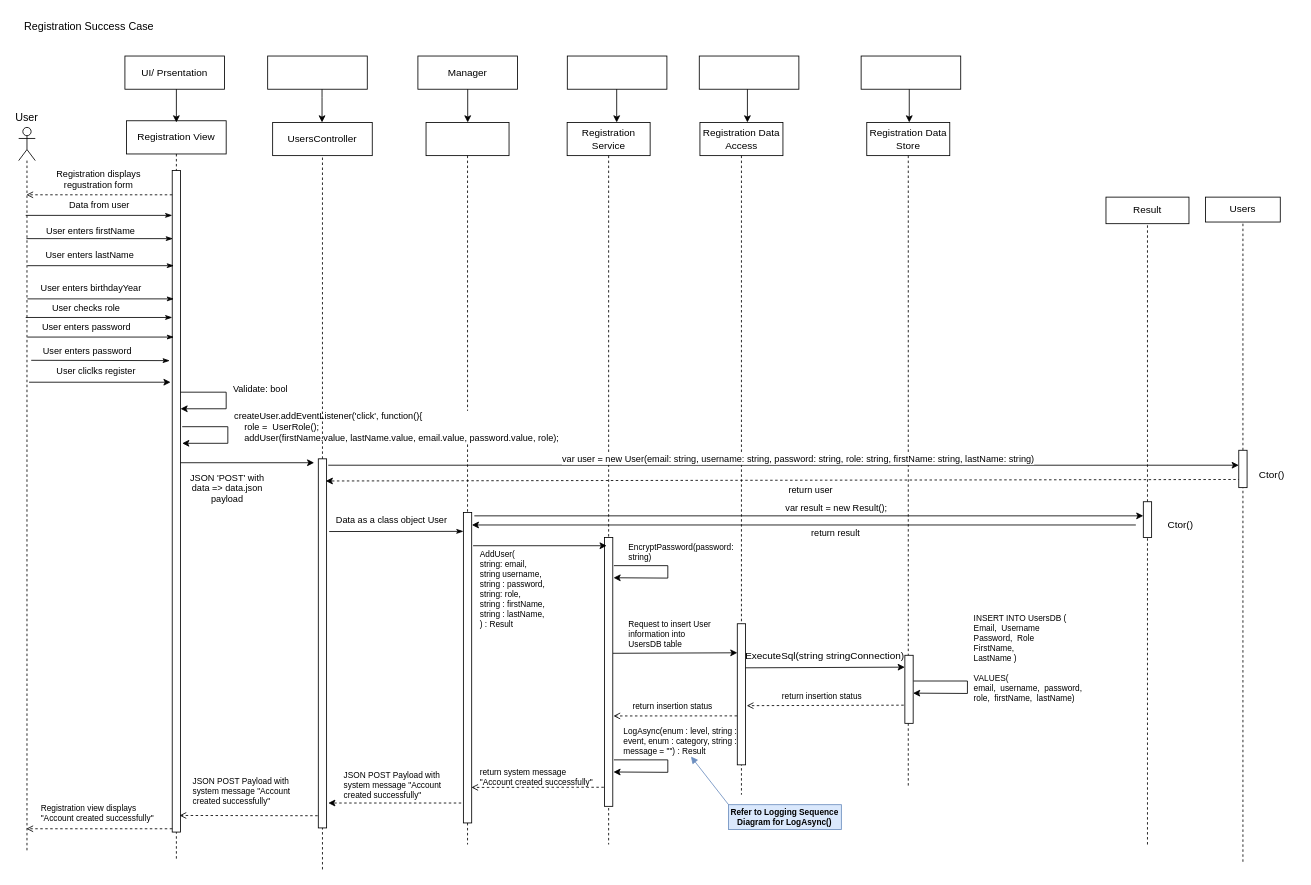
Some shapes in this 1311 by 885 pixel diagram are drawn without their labels. The box of each missing label's shape, as (x1, y1, x2, y2) in pixels:
Controller: (267, 55, 367, 89)
DAL: (698, 55, 799, 89)
DS: (860, 55, 961, 89)
Registration Manager: (425, 122, 509, 845)
Rgistration: (566, 55, 667, 89)
